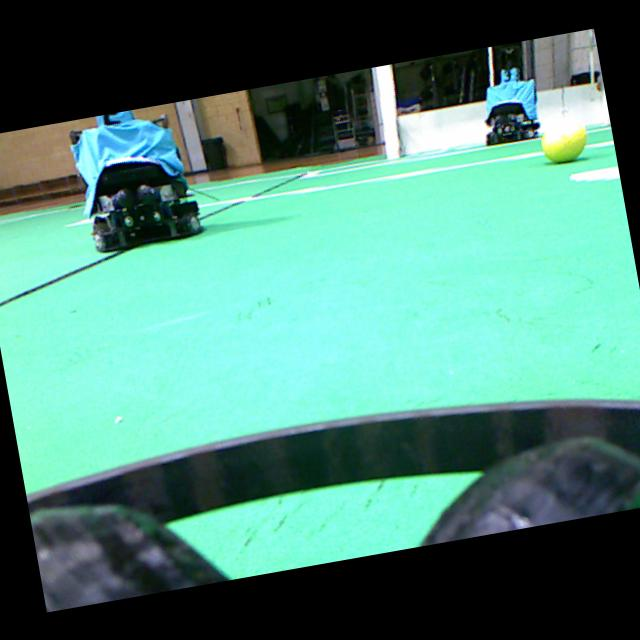ball: (541, 116, 586, 162)
goal: (371, 64, 399, 159)
